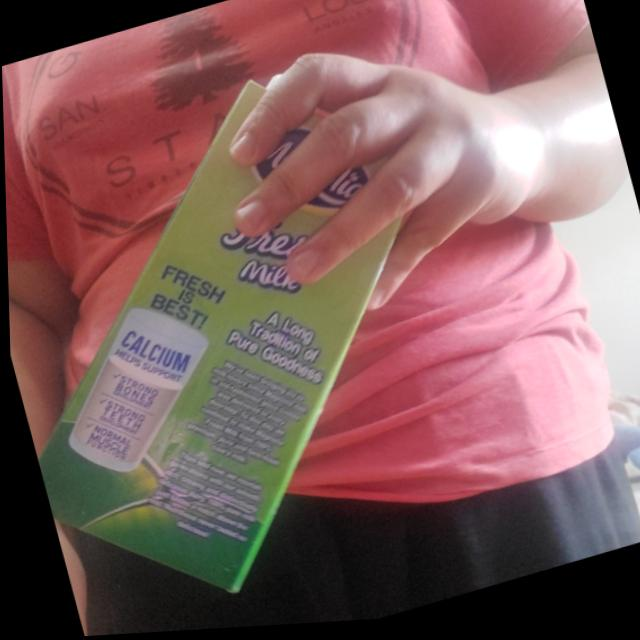milk: (2, 43, 483, 632)
